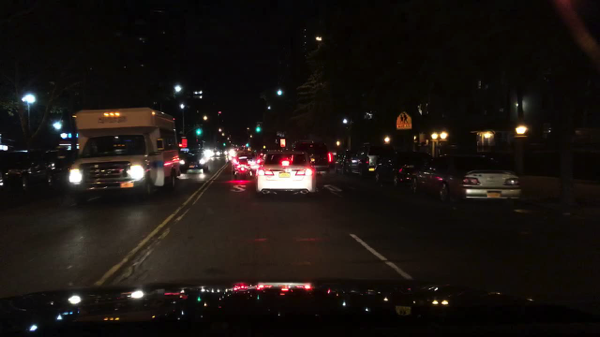car: (411, 152, 521, 206), (255, 150, 316, 198), (1, 150, 47, 201), (373, 152, 433, 186), (44, 149, 78, 196), (290, 139, 333, 176), (392, 157, 433, 189), (358, 142, 394, 176), (231, 149, 257, 176), (180, 150, 208, 173), (339, 150, 360, 176), (330, 150, 345, 173), (225, 148, 237, 160), (254, 154, 264, 164), (210, 149, 219, 157), (218, 149, 227, 156), (203, 149, 210, 156), (257, 149, 266, 154)
person: (417, 142, 426, 155)
traffic light: (255, 126, 261, 133), (196, 128, 200, 136), (222, 142, 226, 147), (244, 144, 249, 148)
traffic sign: (395, 112, 411, 130), (180, 139, 187, 148), (280, 139, 285, 147), (178, 135, 186, 139)
truck: (66, 105, 180, 206)
